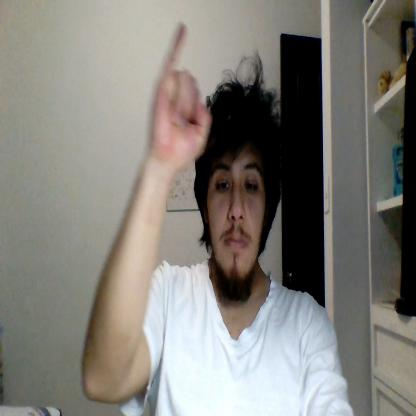I: (150, 21, 210, 166)
